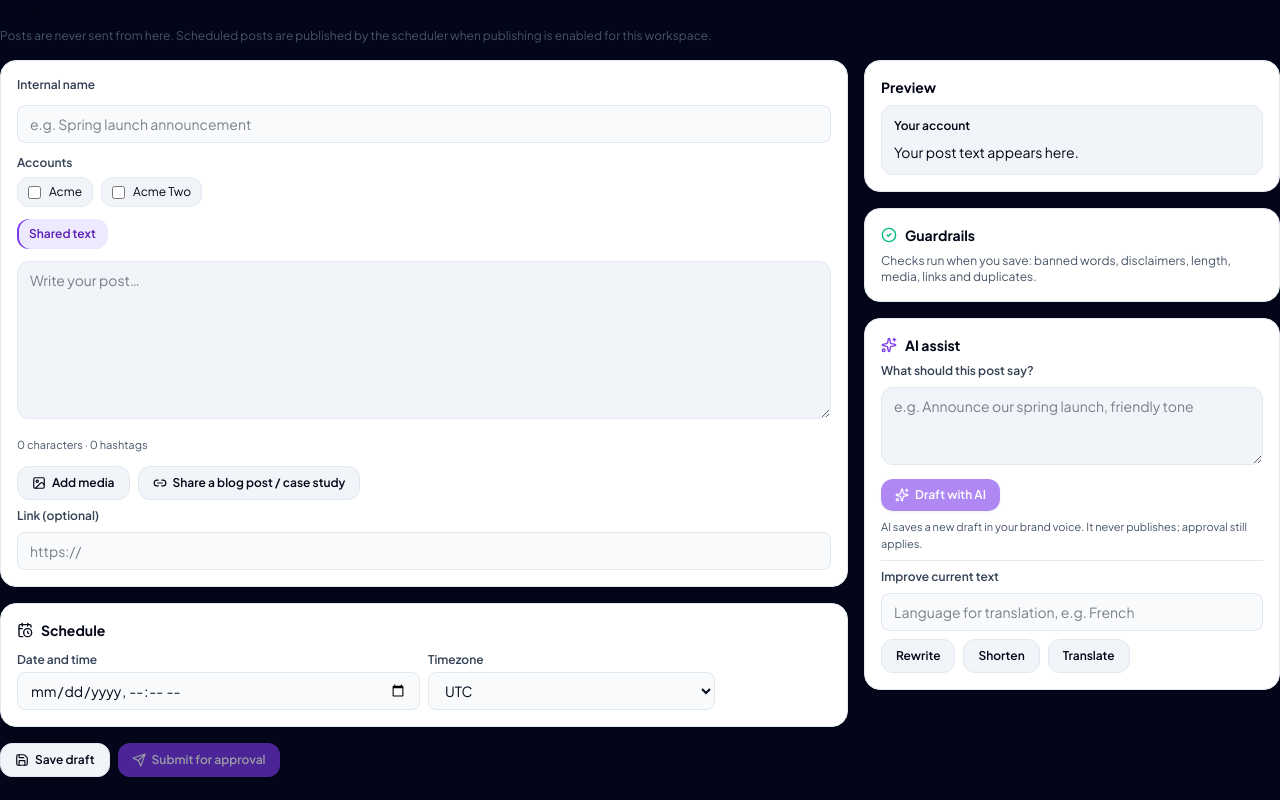
Test: SocialComposerPage › shows Instagram's media requirements and warns when media is missing
The width and height of the screenshot is (1280, 800).
Later steps or results of the test are not shown.
Expected: the field labelled "Internal name" is shown, [17, 105, 831, 143]
Click the checkbox labelled "Acme" at (34, 192), box [28, 186, 41, 198]
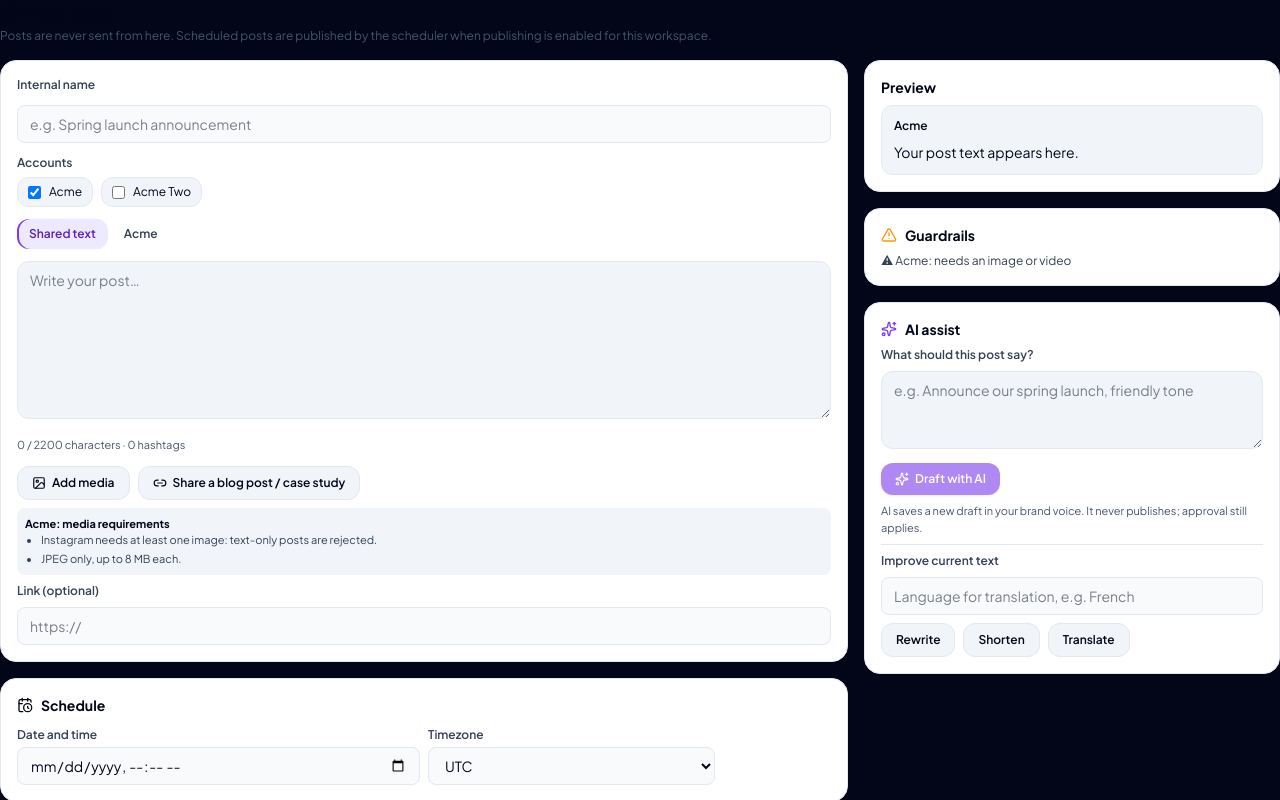
Result: the list item "text-only posts are rejected" is shown at [41, 533, 377, 546]
Result: the list item "JPEG only, up to 8 MB each." is shown at [41, 552, 181, 564]
Type "Caption" into the text box named "Post text" at (424, 340), box [17, 261, 831, 419]
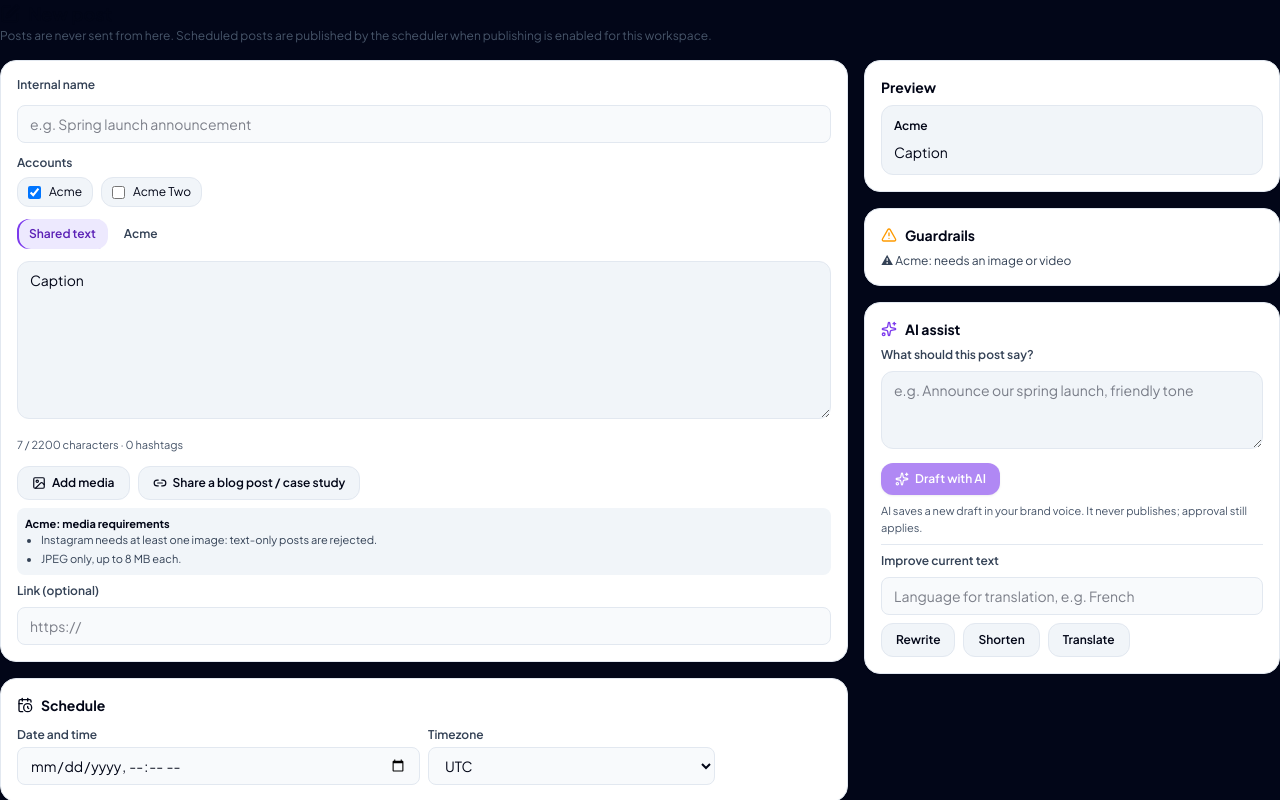
Result: the text "⚠ Acme: needs an image or video" is shown at [881, 253, 1072, 268]
